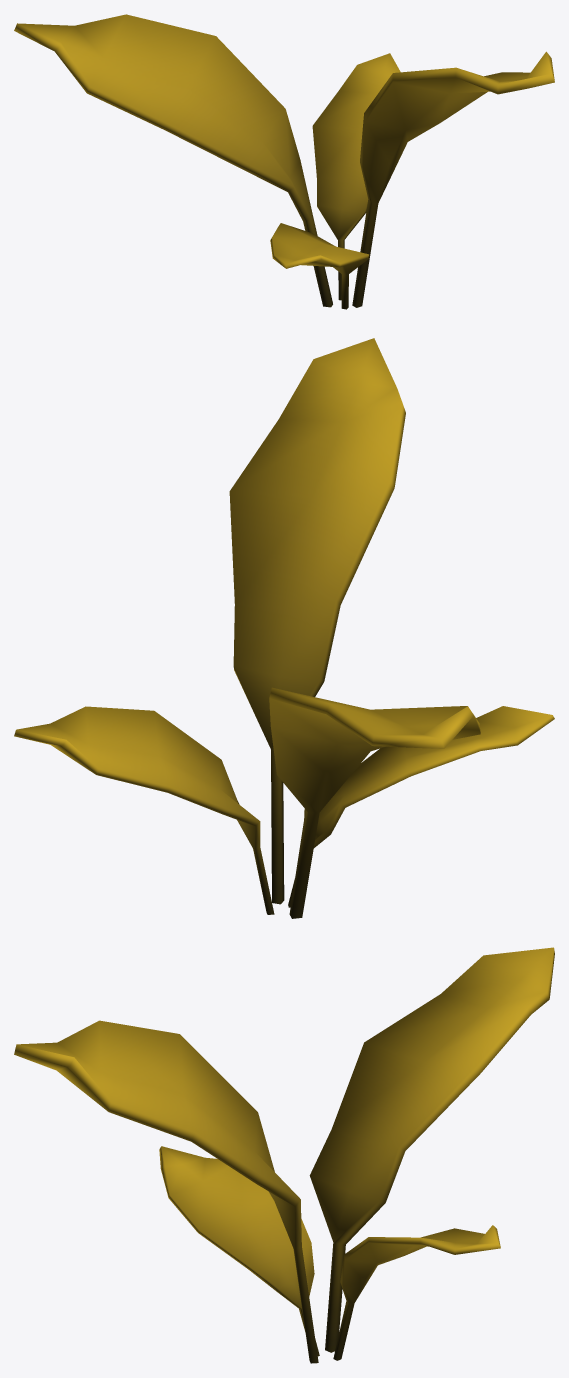
Rendered from Plant_D_1.fbx.
The picture shows the model from 3 angles, top to bottom: view 1: azimuth 30°, elevation 25°; view 2: azimuth 150°, elevation 25°; view 3: azimuth 270°, elevation 25°; orthographic projection. The views are drawn at different scales.
Parts seen in each view (by area): view 1: Plant_D_1; view 2: Plant_D_1; view 3: Plant_D_1.
Part boxes in pixels (x1,y1,x2,y2): Plant_D_1: (14,14,554,309); Plant_D_1: (14,338,554,918); Plant_D_1: (14,947,554,1363).
Size of the model in its own units: 52.6 by 45.15 by 63.18.
